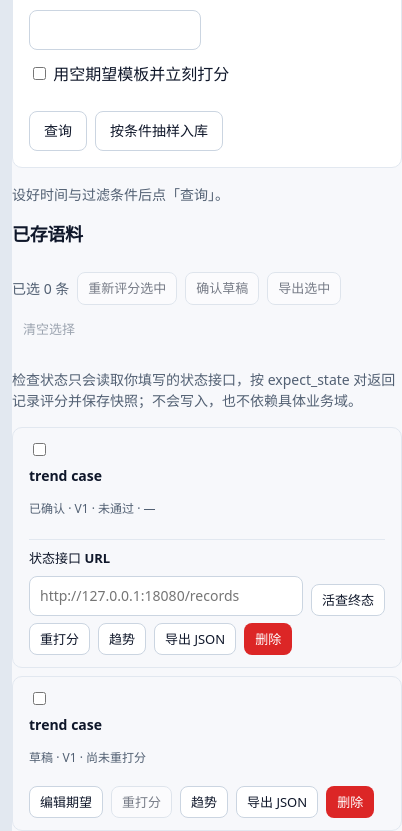
EvalSettings trend and batch actions › confirms selected drafts in one action
Later steps or results of the test are not shown.
(page scrolled)
Click the 1st checkbox named "选择用例". click: (40, 449)
box: [33,443,46,456]
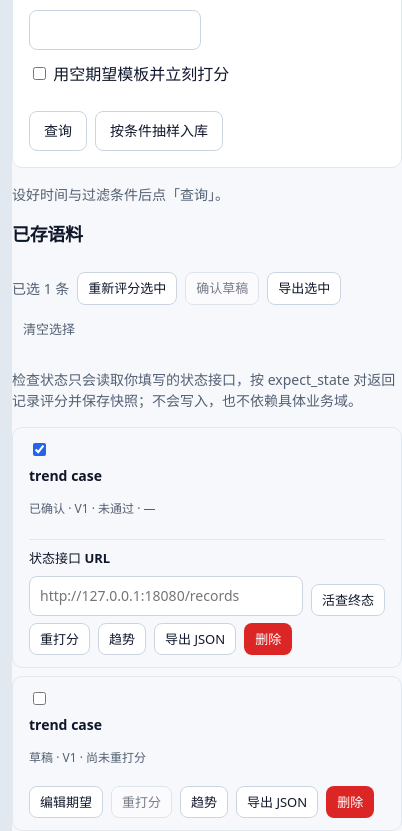
Click the 2nd checkbox named "选择用例". click: (40, 699)
box: [33,692,46,705]
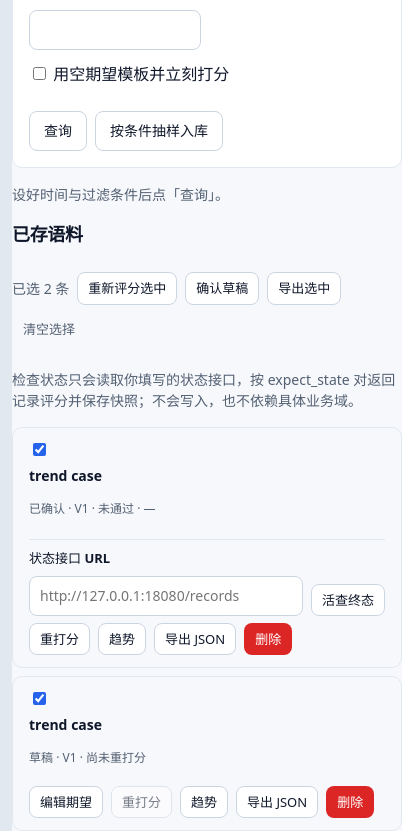
Now the button "确认草稿" is enabled, box [185,272,259,304]
